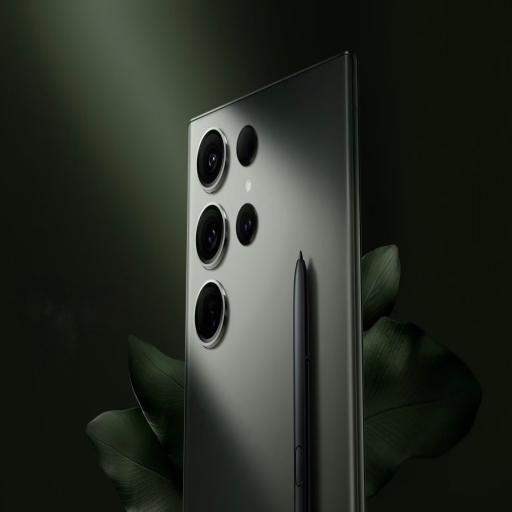phone: (181, 52, 368, 512)
